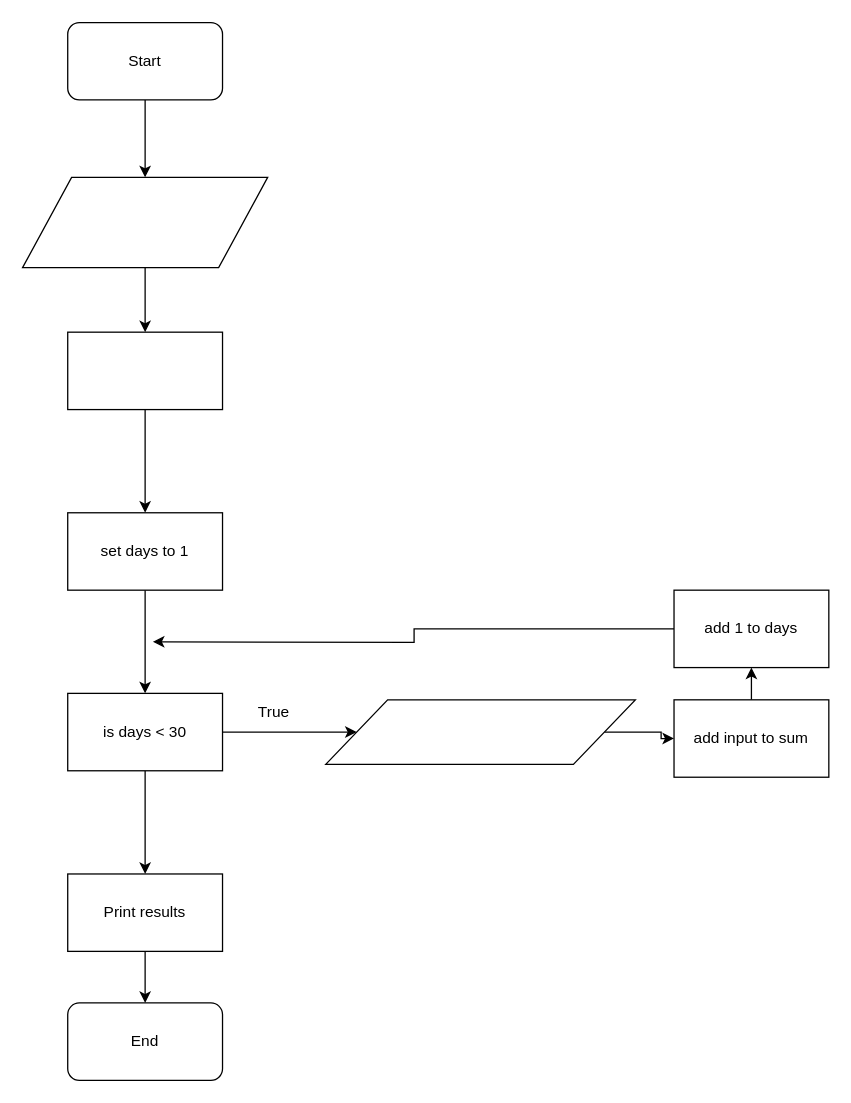
This 851x1103 diagram has some shape labels left out. Here are the shapes that lost their labels. From the top down, the centre of each, then its label:
At point (144, 222): "Get the budget from user".
At point (144, 370): "set budget to input".
At point (479, 731): "get the money spent on say ''days''".
